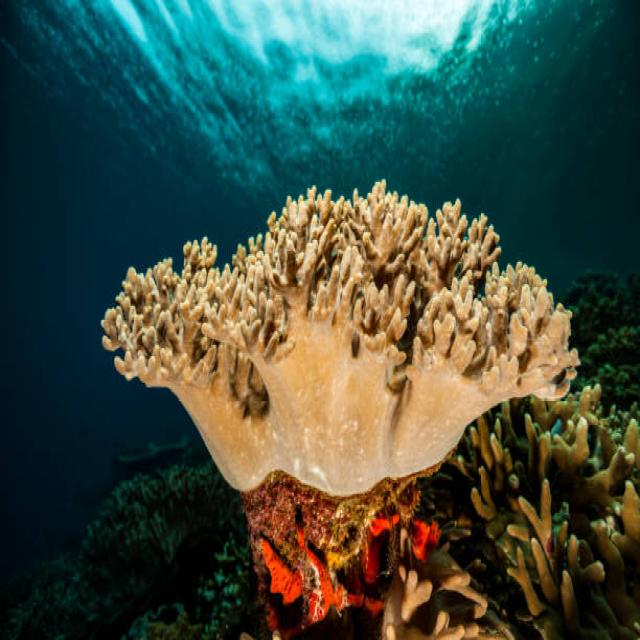Coral: (100, 178, 581, 498), (448, 384, 640, 640), (381, 526, 515, 640)
